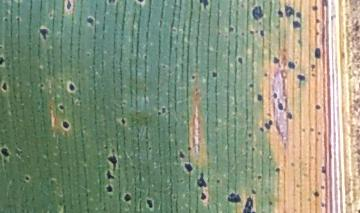tarspot: (250, 4, 265, 24), (225, 190, 242, 206), (242, 195, 257, 213), (106, 151, 119, 171), (64, 80, 81, 94), (37, 24, 51, 41), (195, 172, 209, 188), (284, 3, 294, 21), (286, 59, 298, 72), (60, 119, 72, 132), (103, 167, 115, 180), (1, 146, 11, 161), (182, 161, 194, 173), (103, 182, 115, 194), (85, 14, 96, 27), (312, 46, 322, 60), (144, 196, 153, 211), (156, 106, 168, 117), (284, 109, 295, 121), (64, 1, 74, 14), (291, 20, 304, 30), (264, 118, 273, 132), (311, 101, 322, 112), (295, 72, 307, 82), (1, 79, 9, 94), (198, 1, 211, 10), (57, 101, 66, 114), (272, 56, 282, 67), (176, 148, 186, 159), (122, 192, 133, 202), (254, 92, 264, 103), (319, 164, 328, 176), (275, 9, 285, 19), (276, 100, 285, 111), (319, 1, 331, 9), (118, 116, 127, 126), (210, 69, 219, 79), (310, 3, 319, 13), (159, 62, 169, 71), (311, 190, 322, 198), (294, 9, 302, 20), (199, 191, 208, 200), (249, 187, 258, 196), (235, 55, 244, 64), (314, 17, 323, 26), (309, 62, 318, 71), (266, 198, 274, 208), (295, 37, 303, 47), (142, 53, 150, 63), (329, 12, 337, 22), (105, 1, 118, 7), (259, 28, 266, 39), (14, 15, 22, 24), (23, 174, 32, 182), (255, 173, 264, 181), (273, 166, 281, 175), (189, 73, 197, 82), (227, 25, 235, 34), (308, 125, 316, 134), (288, 160, 296, 169), (271, 90, 278, 100), (258, 125, 265, 135), (339, 52, 346, 62), (134, 1, 147, 6), (1, 54, 5, 70), (247, 28, 254, 37), (314, 29, 321, 38), (37, 82, 46, 89), (47, 11, 54, 19), (309, 71, 316, 79), (295, 181, 302, 189), (266, 110, 273, 118), (213, 178, 222, 184), (246, 81, 255, 87), (316, 129, 322, 138), (246, 132, 253, 139), (85, 51, 92, 58), (3, 16, 9, 24), (254, 28, 260, 36), (263, 71, 269, 79), (281, 46, 287, 54), (318, 202, 326, 208), (319, 183, 325, 190), (239, 30, 245, 37), (250, 145, 256, 152), (300, 126, 307, 132), (355, 206, 360, 213), (1, 43, 4, 51)
